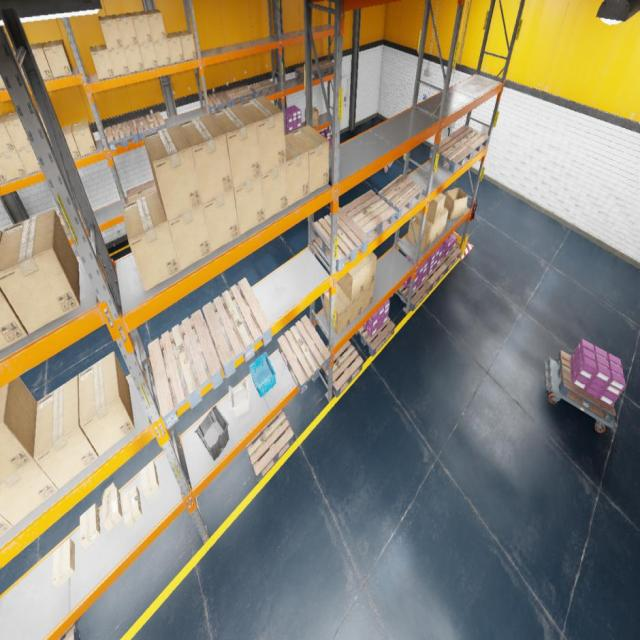box: (0, 209, 80, 334), (33, 376, 98, 489), (0, 404, 59, 526), (78, 352, 134, 456), (122, 192, 180, 292), (143, 125, 202, 221), (178, 114, 233, 204), (210, 104, 261, 188), (0, 376, 37, 483), (239, 96, 286, 174), (0, 230, 27, 350), (168, 204, 212, 271), (290, 125, 330, 193), (203, 189, 240, 252), (233, 176, 265, 235), (285, 134, 309, 206), (261, 163, 288, 220), (324, 282, 351, 336), (336, 282, 363, 324), (337, 261, 365, 301), (43, 40, 72, 78), (52, 539, 74, 588), (407, 212, 433, 252), (101, 482, 122, 531), (3, 112, 30, 149), (80, 504, 100, 549), (72, 120, 97, 156), (29, 43, 53, 80), (122, 484, 142, 528), (58, 203, 86, 234), (90, 44, 114, 80), (98, 15, 123, 49), (0, 150, 27, 181), (140, 460, 160, 499), (419, 193, 445, 223), (444, 187, 468, 219), (418, 212, 441, 245), (115, 13, 138, 46), (16, 146, 42, 174), (144, 9, 166, 41), (130, 12, 152, 44), (176, 30, 197, 61), (0, 114, 16, 154), (108, 47, 130, 76), (61, 125, 80, 158), (124, 44, 144, 73), (12, 47, 28, 83), (361, 252, 376, 290), (138, 42, 158, 70), (166, 33, 184, 63), (153, 40, 172, 66), (36, 106, 50, 139), (362, 280, 374, 312), (0, 514, 13, 537), (438, 207, 448, 236), (305, 108, 319, 126), (0, 166, 7, 183), (0, 74, 6, 89), (49, 140, 52, 146)
pallets: (148, 310, 222, 429), (202, 277, 272, 378), (278, 315, 331, 394), (557, 350, 615, 422), (314, 208, 368, 272), (246, 409, 293, 482), (342, 190, 396, 242), (320, 340, 363, 397), (379, 174, 422, 220), (429, 136, 473, 173), (355, 317, 395, 356), (449, 125, 489, 158), (395, 279, 431, 311), (105, 120, 139, 152), (134, 112, 166, 141), (126, 180, 157, 203), (425, 260, 447, 290), (224, 85, 254, 106), (204, 91, 232, 113), (441, 246, 462, 273), (249, 80, 277, 98), (296, 65, 322, 81), (58, 621, 80, 639), (312, 59, 334, 76), (286, 124, 304, 134)
